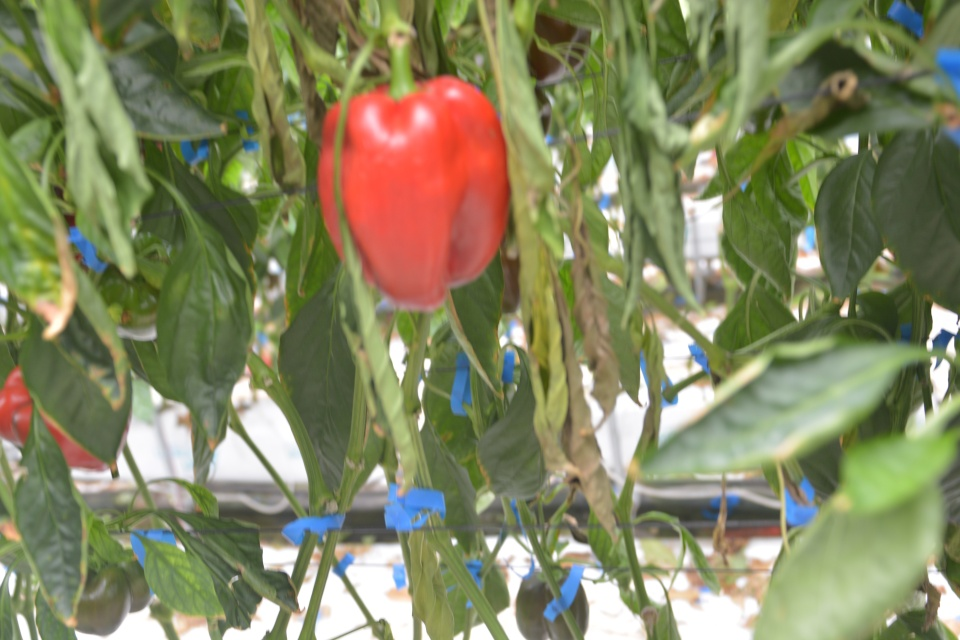fruit: (314, 73, 514, 309), (0, 362, 134, 475), (96, 227, 179, 343), (74, 556, 152, 637), (514, 562, 592, 640), (526, 12, 592, 85)
pedicle: (537, 567, 563, 581)
